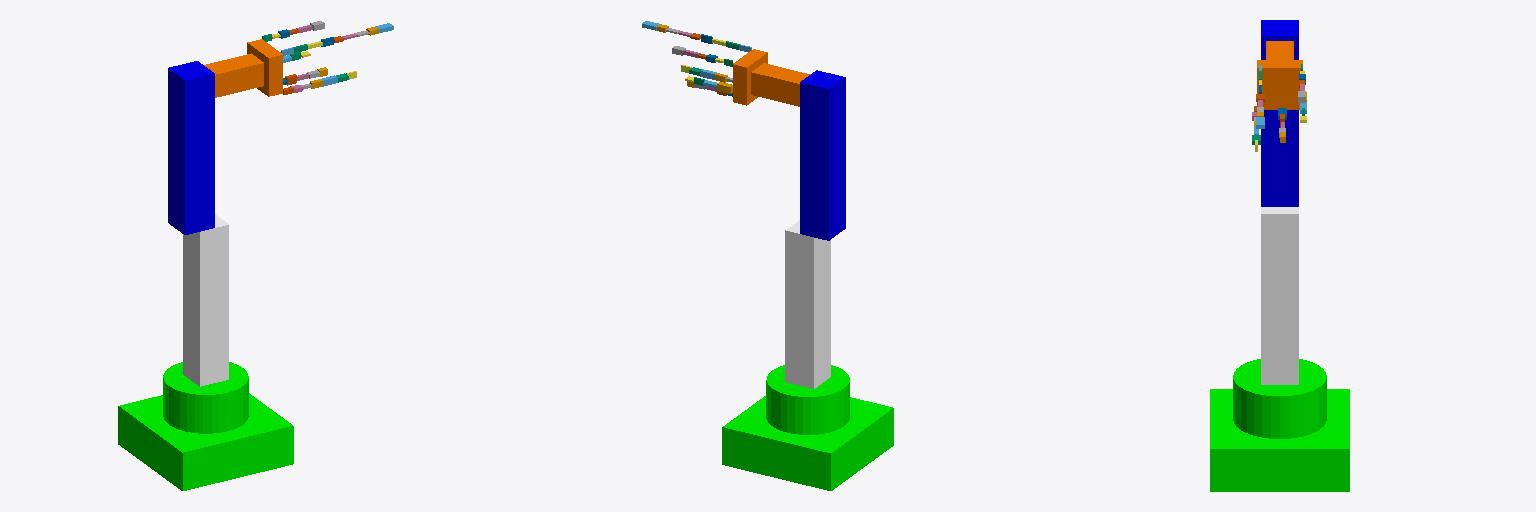
--- Facts derived from the render (not from the file) ---
3 views of the same robot in one strip: view 1: azimuth 30°, elevation 25°; view 2: azimuth 150°, elevation 25°; view 3: azimuth 270°, elevation 25° (orthographic).
Model robot with 36 links and 35 joints (32 revolute, 1 continuous, 2 fixed), rooted at base_link, posed all joints at 0.
Links seen in each view (by area): view 1: base_link, arm_link, support_link, wrist_link, palm_link; view 2: base_link, arm_link, support_link, wrist_link, palm_link; view 3: base_link, support_link, arm_link, palm_link, wrist_link.
Boxes of the visible links, x1,y1,x2,y2 form: base_link: [118, 362, 293, 490]; arm_link: [168, 61, 214, 234]; support_link: [183, 214, 228, 386]; wrist_link: [204, 53, 263, 97]; palm_link: [247, 39, 282, 96]; base_link: [722, 365, 893, 490]; arm_link: [800, 70, 845, 240]; support_link: [785, 220, 830, 388]; wrist_link: [751, 63, 810, 106]; palm_link: [733, 49, 767, 105]; base_link: [1210, 359, 1349, 491]; support_link: [1261, 207, 1298, 384]; arm_link: [1261, 20, 1298, 206]; palm_link: [1257, 60, 1302, 109]; wrist_link: [1266, 41, 1293, 59].
Size in the robot's own frame: 1.57 by 0.75 by 2.55 metres.
Geometry: primitives only (box / cylinder / sphere), no mesh files.

robot.urdf — robot:
<?xml version='1.0' encoding='utf-8'?>
<robot name="robot">
  <link name="base_link">
    <visual>
      <origin xyz="0 0 0.125" rpy="0 0 0" />
      <geometry>
        <box size="0.75 0.75 0.25" />
      </geometry>
      <material name="green" />
    </visual>
    <visual>
      <origin xyz="0 0 0.375" rpy="0 0 0" />
      <geometry>
        <cylinder length="0.25" radius="0.25" />
      </geometry>
      <material name="green">
        <color rgba="0 1 0 1" />
      </material>
    </visual>
    <collision>
      <geometry>
        <box size="0.75 0.75 0.5" />
      </geometry>
    </collision>
    <inertial>
      <mass value="0.5" />
      <inertia ixx="0.034" ixy="0.0" ixz="0.0" iyy="0.034" iyz="0.0" izz="0.034" />
    </inertial>
  </link>
  <link name="support_link">
    <visual>
      <origin xyz="0 0 0.5" rpy="0 0 0" />
      <geometry>
        <box size="0.2 0.2 1" />
      </geometry>
      <material name="white">
        <color rgba="1 1 1 1" />
      </material>
    </visual>
    <collision>
      <geometry>
        <box size="0.2 0.2 1" />
      </geometry>
    </collision>
    <inertial>
      <mass value="0.1" />
      <inertia ixx="0.01" ixy="0.0" ixz="0.0" iyy="0.01" iyz="0.0" izz="0.01" />
    </inertial>
  </link>
  <joint name="support_joint" type="continuous">
    <origin xyz="0 0 0.5" rpy="0 0 0" />
    <parent link="base_link" />
    <child link="support_link" />
    <axis xyz="0 0 1" />
  </joint>
  <link name="arm_link">
    <visual>
      <origin xyz="0 0 0.5" rpy="0 0 0" />
      <geometry>
        <box size="0.2 0.2 1" />
      </geometry>
      <material name="blue">
        <color rgba="0 0 1 1" />
      </material>
    </visual>
    <collision>
      <geometry>
        <box size="0.2 0.2 1" />
      </geometry>
    </collision>
    <inertial>
      <mass value="0.1" />
      <inertia ixx="0.01" ixy="0.0" ixz="0.0" iyy="0.01" iyz="0.0" izz="0.01" />
    </inertial>
  </link>
  <joint name="arm_joint" type="revolute">
    <origin xyz="-0.1 0 1" rpy="0 0 0" />
    <parent link="support_link" />
    <child link="arm_link" />
    <axis xyz="0 1 0" />
    <limit lower="-3.14" upper="3.14" effort="1.0" velocity="1.0" />
  </joint>
  <link name="wrist_link">
    <visual>
      <origin xyz="0 0 0.25" rpy="0 0 0" />
      <geometry>
        <box size="0.15 0.15 0.5" />
      </geometry>
      <material name="orange">
        <color rgba="1 0.5 0 1" />
      </material>
    </visual>
    <collision>
      <geometry>
        <box size="0.15 0.15 0.5" />
      </geometry>
    </collision>
    <inertial>
      <mass value="0.1" />
      <inertia ixx="0.01" ixy="0.0" ixz="0.0" iyy="0.01" iyz="0.0" izz="0.01" />
    </inertial>
  </link>
  <joint name="wrist_joint" type="fixed">
    <origin xyz="0 0 0.9" rpy="0 1.571 0" />
    <parent link="arm_link" />
    <child link="wrist_link" />
  </joint>
  <link name="palm_link">
    <visual>
      <origin xyz="0 0 0.05" rpy="0 0 0" />
      <geometry>
        <box size="0.25 0.25 0.1" />
      </geometry>
      <material name="orange" />
    </visual>
    <collision>
      <geometry>
        <box size="0.25 0.25 0.1" />
      </geometry>
    </collision>
    <inertial>
      <mass value="0.1" />
      <inertia ixx="0.01" ixy="0.0" ixz="0.0" iyy="0.01" iyz="0.0" izz="0.01" />
    </inertial>
  </link>
  <joint name="palm_joint" type="fixed">
    <origin xyz="0 0 0.45" rpy="0 0 0" />
    <parent link="wrist_link" />
    <child link="palm_link" />
  </joint>
  <link name="finger_link_0_0">
    <visual>
      <origin xyz="0 0 0.0305" rpy="0 0 0" />
      <geometry>
        <box size="0.031 0.026 0.061" />
      </geometry>
    </visual>
    <collision>
      <geometry>
        <box size="0.031 0.026 0.061" />
      </geometry>
    </collision>
    <inertial>
      <mass value="0.015" />
      <inertia ixx="0.001" iyy="0.001" izz="0.001" ixy="0" ixz="0" iyz="0" />
    </inertial>
  </link>
  <joint name="finger_joint_palm_link_to_finger_link_0_0" type="revolute">
    <origin xyz="0.117 -0.125 0.1" rpy="0 0 0" />
    <parent link="palm_link" />
    <child link="finger_link_0_0" />
    <axis xyz="1.0 0.0 0.0" />
    <limit lower="-3.142" upper="3.142" effort="10" velocity="10" />
  </joint>
  <link name="finger_link_0_1">
    <visual>
      <origin xyz="0 0 0.0295" rpy="0 0 0" />
      <geometry>
        <box size="0.026 0.045 0.059" />
      </geometry>
    </visual>
    <collision>
      <geometry>
        <box size="0.026 0.045 0.059" />
      </geometry>
    </collision>
    <inertial>
      <mass value="0.021" />
      <inertia ixx="0.001" iyy="0.001" izz="0.001" ixy="0" ixz="0" iyz="0" />
    </inertial>
  </link>
  <joint name="finger_joint_finger_link_0_0_to_finger_link_0_1" type="revolute">
    <origin xyz="0.0 0.0 0.061" rpy="0 0 0" />
    <parent link="finger_link_0_0" />
    <child link="finger_link_0_1" />
    <axis xyz="1.0 0.0 0.0" />
    <limit lower="-3.142" upper="3.142" effort="10" velocity="10" />
  </joint>
  <link name="finger_link_0_2">
    <visual>
      <origin xyz="0 0 0.0325" rpy="0 0 0" />
      <geometry>
        <box size="0.018 0.022 0.065" />
      </geometry>
    </visual>
    <collision>
      <geometry>
        <box size="0.018 0.022 0.065" />
      </geometry>
    </collision>
    <inertial>
      <mass value="0.008" />
      <inertia ixx="0.001" iyy="0.001" izz="0.001" ixy="0" ixz="0" iyz="0" />
    </inertial>
  </link>
  <joint name="finger_joint_finger_link_0_1_to_finger_link_0_2" type="revolute">
    <origin xyz="0.0 0.0 0.059" rpy="0 0 0" />
    <parent link="finger_link_0_1" />
    <child link="finger_link_0_2" />
    <axis xyz="1.0 0.0 0.0" />
    <limit lower="-3.142" upper="3.142" effort="10" velocity="10" />
  </joint>
  <link name="finger_link_0_3">
    <visual>
      <origin xyz="0 0 0.037" rpy="0 0 0" />
      <geometry>
        <box size="0.037 0.029 0.074" />
      </geometry>
    </visual>
    <collision>
      <geometry>
        <box size="0.037 0.029 0.074" />
      </geometry>
    </collision>
    <inertial>
      <mass value="0.024" />
      <inertia ixx="0.001" iyy="0.001" izz="0.001" ixy="0" ixz="0" iyz="0" />
    </inertial>
  </link>
  <joint name="finger_joint_finger_link_0_2_to_finger_link_0_3" type="revolute">
    <origin xyz="0.0 0.0 0.065" rpy="0 0 0" />
    <parent link="finger_link_0_2" />
    <child link="finger_link_0_3" />
    <axis xyz="1.0 0.0 0.0" />
    <limit lower="-3.142" upper="3.142" effort="10" velocity="10" />
  </joint>
  <link name="finger_link_0_4">
    <visual>
      <origin xyz="0 0 0.049" rpy="0 0 0" />
      <geometry>
        <box size="0.039 0.029 0.098" />
      </geometry>
    </visual>
    <collision>
      <geometry>
        <box size="0.039 0.029 0.098" />
      </geometry>
    </collision>
    <inertial>
      <mass value="0.033" />
      <inertia ixx="0.001" iyy="0.001" izz="0.001" ixy="0" ixz="0" iyz="0" />
    </inertial>
  </link>
  <joint name="finger_joint_finger_link_0_3_to_finger_link_0_4" type="revolute">
    <origin xyz="0.0 0.0 0.074" rpy="0 0 0" />
    <parent link="finger_link_0_3" />
    <child link="finger_link_0_4" />
    <axis xyz="1.0 0.0 0.0" />
    <limit lower="-3.142" upper="3.142" effort="10" velocity="10" />
  </joint>
  <link name="finger_link_0_5">
    <visual>
      <origin xyz="0 0 0.036" rpy="0 0 0" />
      <geometry>
        <box size="0.026 0.044 0.072" />
      </geometry>
    </visual>
    <collision>
      <geometry>
        <box size="0.026 0.044 0.072" />
      </geometry>
    </collision>
    <inertial>
      <mass value="0.025" />
      <inertia ixx="0.001" iyy="0.001" izz="0.001" ixy="0" ixz="0" iyz="0" />
    </inertial>
  </link>
  <joint name="finger_joint_finger_link_0_4_to_finger_link_0_5" type="revolute">
    <origin xyz="0.0 0.0 0.098" rpy="0 0 0" />
    <parent link="finger_link_0_4" />
    <child link="finger_link_0_5" />
    <axis xyz="1.0 0.0 0.0" />
    <limit lower="-3.142" upper="3.142" effort="10" velocity="10" />
  </joint>
  <link name="finger_link_0_6">
    <visual>
      <origin xyz="0 0 0.033" rpy="0 0 0" />
      <geometry>
        <box size="0.041 0.011 0.066" />
      </geometry>
    </visual>
    <collision>
      <geometry>
        <box size="0.041 0.011 0.066" />
      </geometry>
    </collision>
    <inertial>
      <mass value="0.009" />
      <inertia ixx="0.001" iyy="0.001" izz="0.001" ixy="0" ixz="0" iyz="0" />
    </inertial>
  </link>
  <joint name="finger_joint_finger_link_0_5_to_finger_link_0_6" type="revolute">
    <origin xyz="0.0 0.0 0.072" rpy="0 0 0" />
    <parent link="finger_link_0_5" />
    <child link="finger_link_0_6" />
    <axis xyz="1.0 0.0 0.0" />
    <limit lower="-3.142" upper="3.142" effort="10" velocity="10" />
  </joint>
  <link name="finger_link_1_0">
    <visual>
      <origin xyz="0 0 0.0495" rpy="0 0 0" />
      <geometry>
        <box size="0.023 0.047 0.099" />
      </geometry>
    </visual>
    <collision>
      <geometry>
        <box size="0.023 0.047 0.099" />
      </geometry>
    </collision>
    <inertial>
      <mass value="0.032" />
      <inertia ixx="0.001" iyy="0.001" izz="0.001" ixy="0" ixz="0" iyz="0" />
    </inertial>
  </link>
  <joint name="finger_joint_palm_link_to_finger_link_1_0" type="revolute">
    <origin xyz="0.125 0.014 0.1" rpy="0 0 0" />
    <parent link="palm_link" />
    <child link="finger_link_1_0" />
    <axis xyz="0.0 1.0 0.0" />
    <limit lower="-3.142" upper="3.142" effort="10" velocity="10" />
  </joint>
  <link name="finger_link_1_1">
    <visual>
      <origin xyz="0 0 0.034" rpy="0 0 0" />
      <geometry>
        <box size="0.049 0.026 0.068" />
      </geometry>
    </visual>
    <collision>
      <geometry>
        <box size="0.049 0.026 0.068" />
      </geometry>
    </collision>
    <inertial>
      <mass value="0.026" />
      <inertia ixx="0.001" iyy="0.001" izz="0.001" ixy="0" ixz="0" iyz="0" />
    </inertial>
  </link>
  <joint name="finger_joint_finger_link_1_0_to_finger_link_1_1" type="revolute">
    <origin xyz="0.0 0.0 0.099" rpy="0 0 0" />
    <parent link="finger_link_1_0" />
    <child link="finger_link_1_1" />
    <axis xyz="0.0 1.0 0.0" />
    <limit lower="-3.142" upper="3.142" effort="10" velocity="10" />
  </joint>
  <link name="finger_link_1_2">
    <visual>
      <origin xyz="0 0 0.0395" rpy="0 0 0" />
      <geometry>
        <box size="0.023 0.022 0.079" />
      </geometry>
    </visual>
    <collision>
      <geometry>
        <box size="0.023 0.022 0.079" />
      </geometry>
    </collision>
    <inertial>
      <mass value="0.012" />
      <inertia ixx="0.001" iyy="0.001" izz="0.001" ixy="0" ixz="0" iyz="0" />
    </inertial>
  </link>
  <joint name="finger_joint_finger_link_1_1_to_finger_link_1_2" type="revolute">
    <origin xyz="0.0 0.0 0.068" rpy="0 0 0" />
    <parent link="finger_link_1_1" />
    <child link="finger_link_1_2" />
    <axis xyz="0.0 1.0 0.0" />
    <limit lower="-3.142" upper="3.142" effort="10" velocity="10" />
  </joint>
  <link name="finger_link_1_3">
    <visual>
      <origin xyz="0 0 0.036" rpy="0 0 0" />
      <geometry>
        <box size="0.026 0.038 0.072" />
      </geometry>
    </visual>
    <collision>
      <geometry>
        <box size="0.026 0.038 0.072" />
      </geometry>
    </collision>
    <inertial>
      <mass value="0.021" />
      <inertia ixx="0.001" iyy="0.001" izz="0.001" ixy="0" ixz="0" iyz="0" />
    </inertial>
  </link>
  <joint name="finger_joint_finger_link_1_2_to_finger_link_1_3" type="revolute">
    <origin xyz="0.0 0.0 0.079" rpy="0 0 0" />
    <parent link="finger_link_1_2" />
    <child link="finger_link_1_3" />
    <axis xyz="0.0 1.0 0.0" />
    <limit lower="-3.142" upper="3.142" effort="10" velocity="10" />
  </joint>
  <link name="finger_link_1_4">
    <visual>
      <origin xyz="0 0 0.027" rpy="0 0 0" />
      <geometry>
        <box size="0.038 0.033 0.054" />
      </geometry>
    </visual>
    <collision>
      <geometry>
        <box size="0.038 0.033 0.054" />
      </geometry>
    </collision>
    <inertial>
      <mass value="0.02" />
      <inertia ixx="0.001" iyy="0.001" izz="0.001" ixy="0" ixz="0" iyz="0" />
    </inertial>
  </link>
  <joint name="finger_joint_finger_link_1_3_to_finger_link_1_4" type="revolute">
    <origin xyz="0.0 0.0 0.072" rpy="0 0 0" />
    <parent link="finger_link_1_3" />
    <child link="finger_link_1_4" />
    <axis xyz="0.0 1.0 0.0" />
    <limit lower="-3.142" upper="3.142" effort="10" velocity="10" />
  </joint>
  <link name="finger_link_2_0">
    <visual>
      <origin xyz="0 0 0.0405" rpy="0 0 0" />
      <geometry>
        <box size="0.035 0.012 0.081" />
      </geometry>
    </visual>
    <collision>
      <geometry>
        <box size="0.035 0.012 0.081" />
      </geometry>
    </collision>
    <inertial>
      <mass value="0.01" />
      <inertia ixx="0.001" iyy="0.001" izz="0.001" ixy="0" ixz="0" iyz="0" />
    </inertial>
  </link>
  <joint name="finger_joint_palm_link_to_finger_link_2_0" type="revolute">
    <origin xyz="-0.125 -0.104 0.1" rpy="0 0 0" />
    <parent link="palm_link" />
    <child link="finger_link_2_0" />
    <axis xyz="0.0 -1.0 0.0" />
    <limit lower="-3.142" upper="3.142" effort="10" velocity="10" />
  </joint>
  <link name="finger_link_2_1">
    <visual>
      <origin xyz="0 0 0.0465" rpy="0 0 0" />
      <geometry>
        <box size="0.033 0.016 0.093" />
      </geometry>
    </visual>
    <collision>
      <geometry>
        <box size="0.033 0.016 0.093" />
      </geometry>
    </collision>
    <inertial>
      <mass value="0.015" />
      <inertia ixx="0.001" iyy="0.001" izz="0.001" ixy="0" ixz="0" iyz="0" />
    </inertial>
  </link>
  <joint name="finger_joint_finger_link_2_0_to_finger_link_2_1" type="revolute">
    <origin xyz="0.0 0.0 0.081" rpy="0 0 0" />
    <parent link="finger_link_2_0" />
    <child link="finger_link_2_1" />
    <axis xyz="0.0 -1.0 0.0" />
    <limit lower="-3.142" upper="3.142" effort="10" velocity="10" />
  </joint>
  <link name="finger_link_2_2">
    <visual>
      <origin xyz="0 0 0.0485" rpy="0 0 0" />
      <geometry>
        <box size="0.023 0.02 0.097" />
      </geometry>
    </visual>
    <collision>
      <geometry>
        <box size="0.023 0.02 0.097" />
      </geometry>
    </collision>
    <inertial>
      <mass value="0.013" />
      <inertia ixx="0.001" iyy="0.001" izz="0.001" ixy="0" ixz="0" iyz="0" />
    </inertial>
  </link>
  <joint name="finger_joint_finger_link_2_1_to_finger_link_2_2" type="revolute">
    <origin xyz="0.0 0.0 0.093" rpy="0 0 0" />
    <parent link="finger_link_2_1" />
    <child link="finger_link_2_2" />
    <axis xyz="0.0 -1.0 0.0" />
    <limit lower="-3.142" upper="3.142" effort="10" velocity="10" />
  </joint>
  <link name="finger_link_2_3">
    <visual>
      <origin xyz="0 0 0.039" rpy="0 0 0" />
      <geometry>
        <box size="0.046 0.012 0.078" />
      </geometry>
    </visual>
    <collision>
      <geometry>
        <box size="0.046 0.012 0.078" />
      </geometry>
    </collision>
    <inertial>
      <mass value="0.013" />
      <inertia ixx="0.001" iyy="0.001" izz="0.001" ixy="0" ixz="0" iyz="0" />
    </inertial>
  </link>
  <joint name="finger_joint_finger_link_2_2_to_finger_link_2_3" type="revolute">
    <origin xyz="0.0 0.0 0.097" rpy="0 0 0" />
    <parent link="finger_link_2_2" />
    <child link="finger_link_2_3" />
    <axis xyz="0.0 -1.0 0.0" />
    <limit lower="-3.142" upper="3.142" effort="10" velocity="10" />
  </joint>
  <link name="finger_link_2_4">
    <visual>
      <origin xyz="0 0 0.031" rpy="0 0 0" />
      <geometry>
        <box size="0.015 0.047 0.062" />
      </geometry>
    </visual>
    <collision>
      <geometry>
        <box size="0.015 0.047 0.062" />
      </geometry>
    </collision>
    <inertial>
      <mass value="0.013" />
      <inertia ixx="0.001" iyy="0.001" izz="0.001" ixy="0" ixz="0" iyz="0" />
    </inertial>
  </link>
  <joint name="finger_joint_finger_link_2_3_to_finger_link_2_4" type="revolute">
    <origin xyz="0.0 0.0 0.078" rpy="0 0 0" />
    <parent link="finger_link_2_3" />
    <child link="finger_link_2_4" />
    <axis xyz="0.0 -1.0 0.0" />
    <limit lower="-3.142" upper="3.142" effort="10" velocity="10" />
  </joint>
  <link name="finger_link_2_5">
    <visual>
      <origin xyz="0 0 0.046" rpy="0 0 0" />
      <geometry>
        <box size="0.011 0.029 0.092" />
      </geometry>
    </visual>
    <collision>
      <geometry>
        <box size="0.011 0.029 0.092" />
      </geometry>
    </collision>
    <inertial>
      <mass value="0.009" />
      <inertia ixx="0.001" iyy="0.001" izz="0.001" ixy="0" ixz="0" iyz="0" />
    </inertial>
  </link>
  <joint name="finger_joint_finger_link_2_4_to_finger_link_2_5" type="revolute">
    <origin xyz="0.0 0.0 0.062" rpy="0 0 0" />
    <parent link="finger_link_2_4" />
    <child link="finger_link_2_5" />
    <axis xyz="0.0 -1.0 0.0" />
    <limit lower="-3.142" upper="3.142" effort="10" velocity="10" />
  </joint>
  <link name="finger_link_2_6">
    <visual>
      <origin xyz="0 0 0.0405" rpy="0 0 0" />
      <geometry>
        <box size="0.011 0.035 0.081" />
      </geometry>
    </visual>
    <collision>
      <geometry>
        <box size="0.011 0.035 0.081" />
      </geometry>
    </collision>
    <inertial>
      <mass value="0.009" />
      <inertia ixx="0.001" iyy="0.001" izz="0.001" ixy="0" ixz="0" iyz="0" />
    </inertial>
  </link>
  <joint name="finger_joint_finger_link_2_5_to_finger_link_2_6" type="revolute">
    <origin xyz="0.0 0.0 0.092" rpy="0 0 0" />
    <parent link="finger_link_2_5" />
    <child link="finger_link_2_6" />
    <axis xyz="0.0 -1.0 0.0" />
    <limit lower="-3.142" upper="3.142" effort="10" velocity="10" />
  </joint>
  <link name="finger_link_2_7">
    <visual>
      <origin xyz="0 0 0.0295" rpy="0 0 0" />
      <geometry>
        <box size="0.029 0.042 0.059" />
      </geometry>
    </visual>
    <collision>
      <geometry>
        <box size="0.029 0.042 0.059" />
      </geometry>
    </collision>
    <inertial>
      <mass value="0.022" />
      <inertia ixx="0.001" iyy="0.001" izz="0.001" ixy="0" ixz="0" iyz="0" />
    </inertial>
  </link>
  <joint name="finger_joint_finger_link_2_6_to_finger_link_2_7" type="revolute">
    <origin xyz="0.0 0.0 0.081" rpy="0 0 0" />
    <parent link="finger_link_2_6" />
    <child link="finger_link_2_7" />
    <axis xyz="0.0 -1.0 0.0" />
    <limit lower="-3.142" upper="3.142" effort="10" velocity="10" />
  </joint>
  <link name="finger_link_2_8">
    <visual>
      <origin xyz="0 0 0.0495" rpy="0 0 0" />
      <geometry>
        <box size="0.026 0.049 0.099" />
      </geometry>
    </visual>
    <collision>
      <geometry>
        <box size="0.026 0.049 0.099" />
      </geometry>
    </collision>
    <inertial>
      <mass value="0.038" />
      <inertia ixx="0.001" iyy="0.001" izz="0.001" ixy="0" ixz="0" iyz="0" />
    </inertial>
  </link>
  <joint name="finger_joint_finger_link_2_7_to_finger_link_2_8" type="revolute">
    <origin xyz="0.0 0.0 0.059" rpy="0 0 0" />
    <parent link="finger_link_2_7" />
    <child link="finger_link_2_8" />
    <axis xyz="0.0 -1.0 0.0" />
    <limit lower="-3.142" upper="3.142" effort="10" velocity="10" />
  </joint>
  <link name="finger_link_3_0">
    <visual>
      <origin xyz="0 0 0.03" rpy="0 0 0" />
      <geometry>
        <box size="0.04 0.01 0.06" />
      </geometry>
    </visual>
    <collision>
      <geometry>
        <box size="0.04 0.01 0.06" />
      </geometry>
    </collision>
    <inertial>
      <mass value="0.007" />
      <inertia ixx="0.001" iyy="0.001" izz="0.001" ixy="0" ixz="0" iyz="0" />
    </inertial>
  </link>
  <joint name="finger_joint_palm_link_to_finger_link_3_0" type="revolute">
    <origin xyz="-0.125 0.119 0.1" rpy="0 0 0" />
    <parent link="palm_link" />
    <child link="finger_link_3_0" />
    <axis xyz="0.0 -1.0 0.0" />
    <limit lower="-3.142" upper="3.142" effort="10" velocity="10" />
  </joint>
  <link name="finger_link_3_1">
    <visual>
      <origin xyz="0 0 0.028" rpy="0 0 0" />
      <geometry>
        <box size="0.015 0.027 0.056" />
      </geometry>
    </visual>
    <collision>
      <geometry>
        <box size="0.015 0.027 0.056" />
      </geometry>
    </collision>
    <inertial>
      <mass value="0.007" />
      <inertia ixx="0.001" iyy="0.001" izz="0.001" ixy="0" ixz="0" iyz="0" />
    </inertial>
  </link>
  <joint name="finger_joint_finger_link_3_0_to_finger_link_3_1" type="revolute">
    <origin xyz="0.0 0.0 0.06" rpy="0 0 0" />
    <parent link="finger_link_3_0" />
    <child link="finger_link_3_1" />
    <axis xyz="0.0 -1.0 0.0" />
    <limit lower="-3.142" upper="3.142" effort="10" velocity="10" />
  </joint>
  <link name="finger_link_3_2">
    <visual>
      <origin xyz="0 0 0.0295" rpy="0 0 0" />
      <geometry>
        <box size="0.033 0.038 0.059" />
      </geometry>
    </visual>
    <collision>
      <geometry>
        <box size="0.033 0.038 0.059" />
      </geometry>
    </collision>
    <inertial>
      <mass value="0.022" />
      <inertia ixx="0.001" iyy="0.001" izz="0.001" ixy="0" ixz="0" iyz="0" />
    </inertial>
  </link>
  <joint name="finger_joint_finger_link_3_1_to_finger_link_3_2" type="revolute">
    <origin xyz="0.0 0.0 0.056" rpy="0 0 0" />
    <parent link="finger_link_3_1" />
    <child link="finger_link_3_2" />
    <axis xyz="0.0 -1.0 0.0" />
    <limit lower="-3.142" upper="3.142" effort="10" velocity="10" />
  </joint>
  <link name="finger_link_3_3">
    <visual>
      <origin xyz="0 0 0.03" rpy="0 0 0" />
      <geometry>
        <box size="0.016 0.032 0.06" />
      </geometry>
    </visual>
    <collision>
      <geometry>
        <box size="0.016 0.032 0.06" />
      </geometry>
    </collision>
    <inertial>
      <mass value="0.009" />
      <inertia ixx="0.001" iyy="0.001" izz="0.001" ixy="0" ixz="0" iyz="0" />
    </inertial>
  </link>
  <joint name="finger_joint_finger_link_3_2_to_finger_link_3_3" type="revolute">
    <origin xyz="0.0 0.0 0.059" rpy="0 0 0" />
    <parent link="finger_link_3_2" />
    <child link="finger_link_3_3" />
    <axis xyz="0.0 -1.0 0.0" />
    <limit lower="-3.142" upper="3.142" effort="10" velocity="10" />
  </joint>
  <link name="finger_link_3_4">
    <visual>
      <origin xyz="0 0 0.05" rpy="0 0 0" />
      <geometry>
        <box size="0.025 0.024 0.1" />
      </geometry>
    </visual>
    <collision>
      <geometry>
        <box size="0.025 0.024 0.1" />
      </geometry>
    </collision>
    <inertial>
      <mass value="0.018" />
      <inertia ixx="0.001" iyy="0.001" izz="0.001" ixy="0" ixz="0" iyz="0" />
    </inertial>
  </link>
  <joint name="finger_joint_finger_link_3_3_to_finger_link_3_4" type="revolute">
    <origin xyz="0.0 0.0 0.06" rpy="0 0 0" />
    <parent link="finger_link_3_3" />
    <child link="finger_link_3_4" />
    <axis xyz="0.0 -1.0 0.0" />
    <limit lower="-3.142" upper="3.142" effort="10" velocity="10" />
  </joint>
  <link name="finger_link_3_5">
    <visual>
      <origin xyz="0 0 0.036" rpy="0 0 0" />
      <geometry>
        <box size="0.036 0.043 0.072" />
      </geometry>
    </visual>
    <collision>
      <geometry>
        <box size="0.036 0.043 0.072" />
      </geometry>
    </collision>
    <inertial>
      <mass value="0.033" />
      <inertia ixx="0.001" iyy="0.001" izz="0.001" ixy="0" ixz="0" iyz="0" />
    </inertial>
  </link>
  <joint name="finger_joint_finger_link_3_4_to_finger_link_3_5" type="revolute">
    <origin xyz="0.0 0.0 0.1" rpy="0 0 0" />
    <parent link="finger_link_3_4" />
    <child link="finger_link_3_5" />
    <axis xyz="0.0 -1.0 0.0" />
    <limit lower="-3.142" upper="3.142" effort="10" velocity="10" />
  </joint>
  <link name="finger_link_4_0">
    <visual>
      <origin xyz="0 0 0.049" rpy="0 0 0" />
      <geometry>
        <box size="0.046 0.039 0.098" />
      </geometry>
    </visual>
    <collision>
      <geometry>
        <box size="0.046 0.039 0.098" />
      </geometry>
    </collision>
    <inertial>
      <mass value="0.053" />
      <inertia ixx="0.001" iyy="0.001" izz="0.001" ixy="0" ixz="0" iyz="0" />
    </inertial>
  </link>
  <joint name="finger_joint_palm_link_to_finger_link_4_0" type="revolute">
    <origin xyz="0.043 0.125 0.1" rpy="0 0 0" />
    <parent link="palm_link" />
    <child link="finger_link_4_0" />
    <axis xyz="-1.0 0.0 0.0" />
    <limit lower="-3.142" upper="3.142" effort="10" velocity="10" />
  </joint>
  <link name="finger_link_4_1">
    <visual>
      <origin xyz="0 0 0.0475" rpy="0 0 0" />
      <geometry>
        <box size="0.023 0.037 0.095" />
      </geometry>
    </visual>
    <collision>
      <geometry>
        <box size="0.023 0.037 0.095" />
      </geometry>
    </collision>
    <inertial>
      <mass value="0.024" />
      <inertia ixx="0.001" iyy="0.001" izz="0.001" ixy="0" ixz="0" iyz="0" />
    </inertial>
  </link>
  <joint name="finger_joint_finger_link_4_0_to_finger_link_4_1" type="revolute">
    <origin xyz="0.0 0.0 0.098" rpy="0 0 0" />
    <parent link="finger_link_4_0" />
    <child link="finger_link_4_1" />
    <axis xyz="-1.0 0.0 0.0" />
    <limit lower="-3.142" upper="3.142" effort="10" velocity="10" />
  </joint>
  <link name="finger_link_4_2">
    <visual>
      <origin xyz="0 0 0.0345" rpy="0 0 0" />
      <geometry>
        <box size="0.04 0.012 0.069" />
      </geometry>
    </visual>
    <collision>
      <geometry>
        <box size="0.04 0.012 0.069" />
      </geometry>
    </collision>
    <inertial>
      <mass value="0.01" />
      <inertia ixx="0.001" iyy="0.001" izz="0.001" ixy="0" ixz="0" iyz="0" />
    </inertial>
  </link>
  <joint name="finger_joint_finger_link_4_1_to_finger_link_4_2" type="revolute">
    <origin xyz="0.0 0.0 0.095" rpy="0 0 0" />
    <parent link="finger_link_4_1" />
    <child link="finger_link_4_2" />
    <axis xyz="-1.0 0.0 0.0" />
    <limit lower="-3.142" upper="3.142" effort="10" velocity="10" />
  </joint>
  <link name="finger_link_4_3">
    <visual>
      <origin xyz="0 0 0.0275" rpy="0 0 0" />
      <geometry>
        <box size="0.013 0.042 0.055" />
      </geometry>
    </visual>
    <collision>
      <geometry>
        <box size="0.013 0.042 0.055" />
      </geometry>
    </collision>
    <inertial>
      <mass value="0.009" />
      <inertia ixx="0.001" iyy="0.001" izz="0.001" ixy="0" ixz="0" iyz="0" />
    </inertial>
  </link>
  <joint name="finger_joint_finger_link_4_2_to_finger_link_4_3" type="revolute">
    <origin xyz="0.0 0.0 0.069" rpy="0 0 0" />
    <parent link="finger_link_4_2" />
    <child link="finger_link_4_3" />
    <axis xyz="-1.0 0.0 0.0" />
    <limit lower="-3.142" upper="3.142" effort="10" velocity="10" />
  </joint>
</robot>
